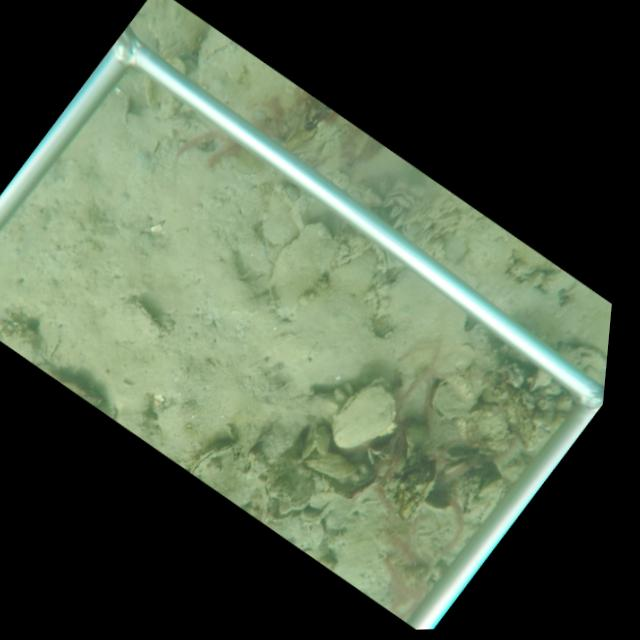Oyster-Closed: (332, 377, 400, 452), (96, 297, 167, 344), (188, 439, 236, 475), (301, 424, 318, 461), (416, 228, 433, 248), (387, 204, 404, 220), (419, 216, 433, 233), (419, 204, 433, 217), (378, 177, 387, 196), (381, 196, 394, 209)
Oyster-Indeterminate: (267, 223, 339, 325), (303, 453, 358, 481)
Oyster-Open: (428, 375, 476, 422)
